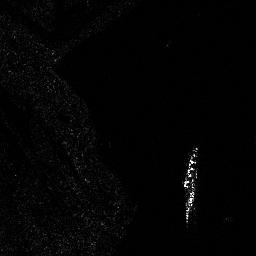ship: (183, 146, 198, 188)
